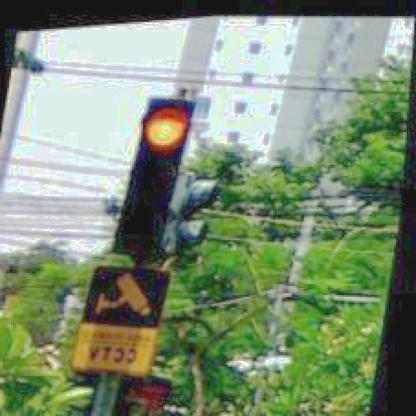Traffic Light -Red-: (112, 90, 199, 254)
